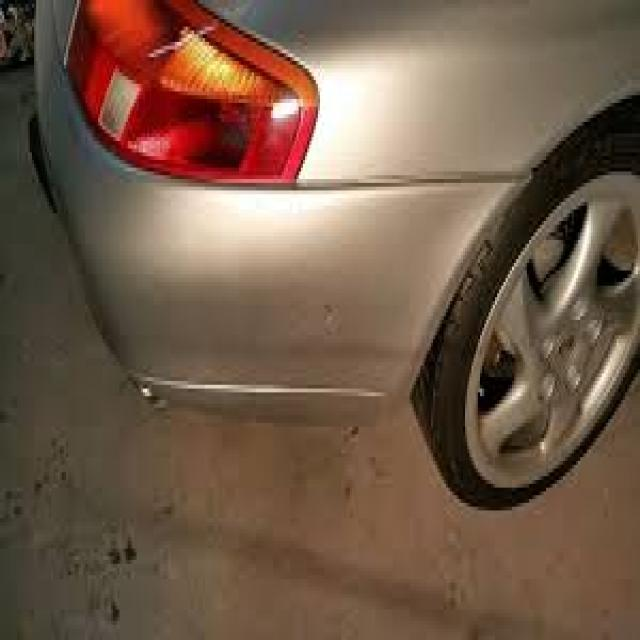minor: (144, 11, 227, 76)
